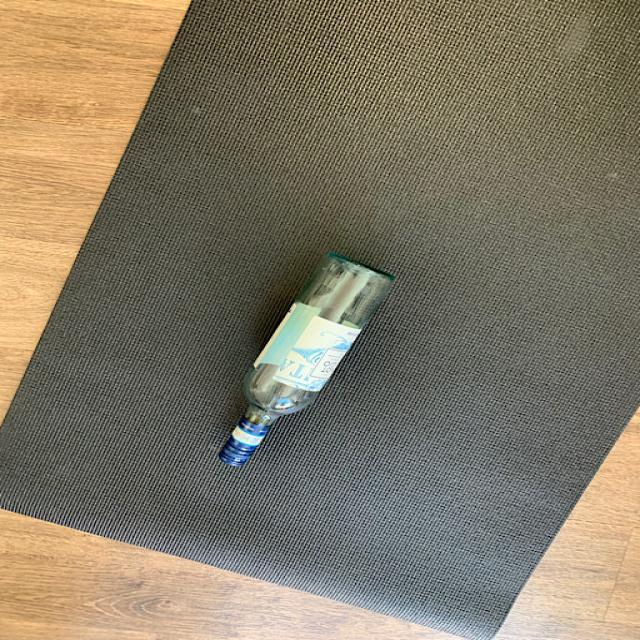litter: (215, 256, 401, 473)
